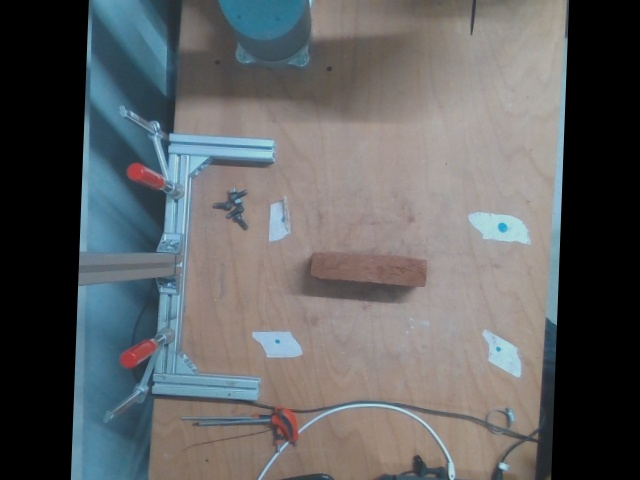brick-side: (314, 251, 427, 285)
